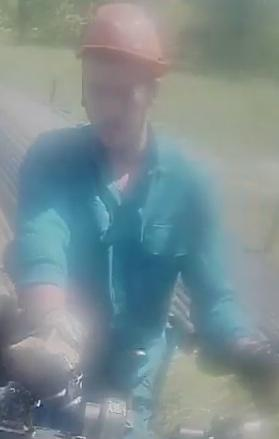gloves: (2, 307, 86, 380), (219, 326, 279, 400)
helmet: (77, 3, 172, 75)
vest: (11, 122, 235, 354)
